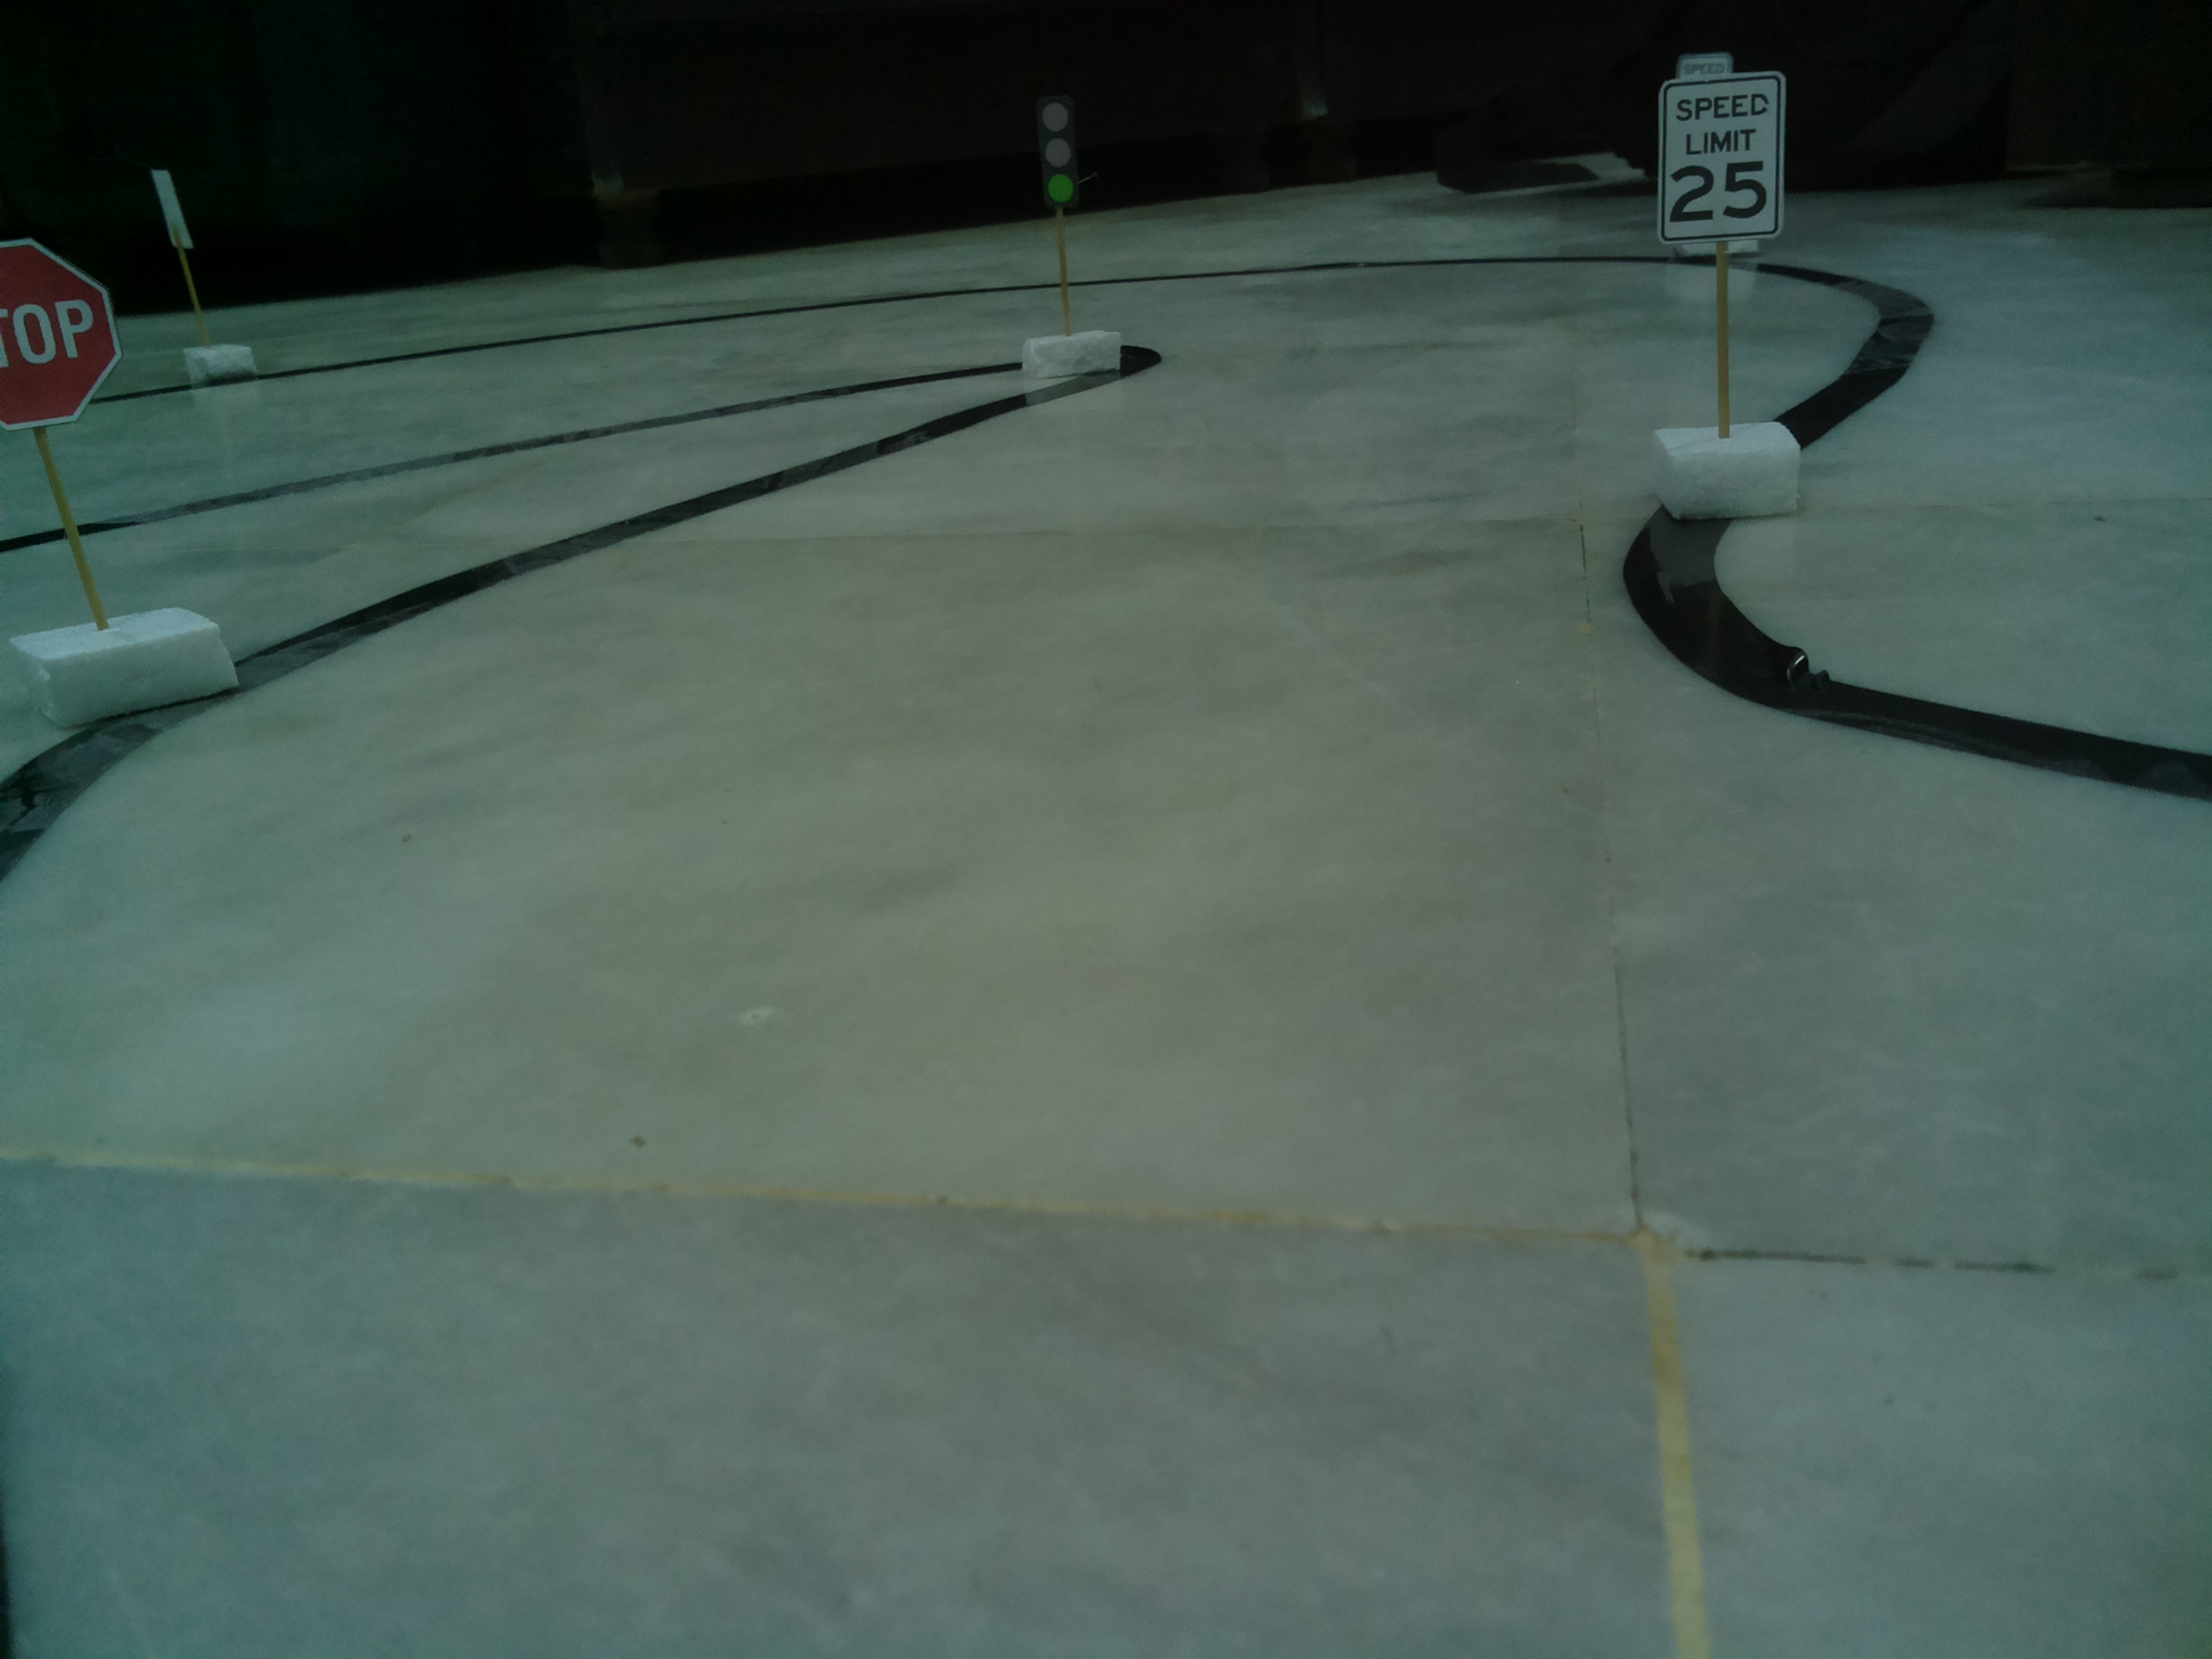Green traffic light: (1033, 87, 1083, 213)
Speed limit 25: (1658, 75, 1792, 247)
Stop sign: (2, 234, 127, 437)
